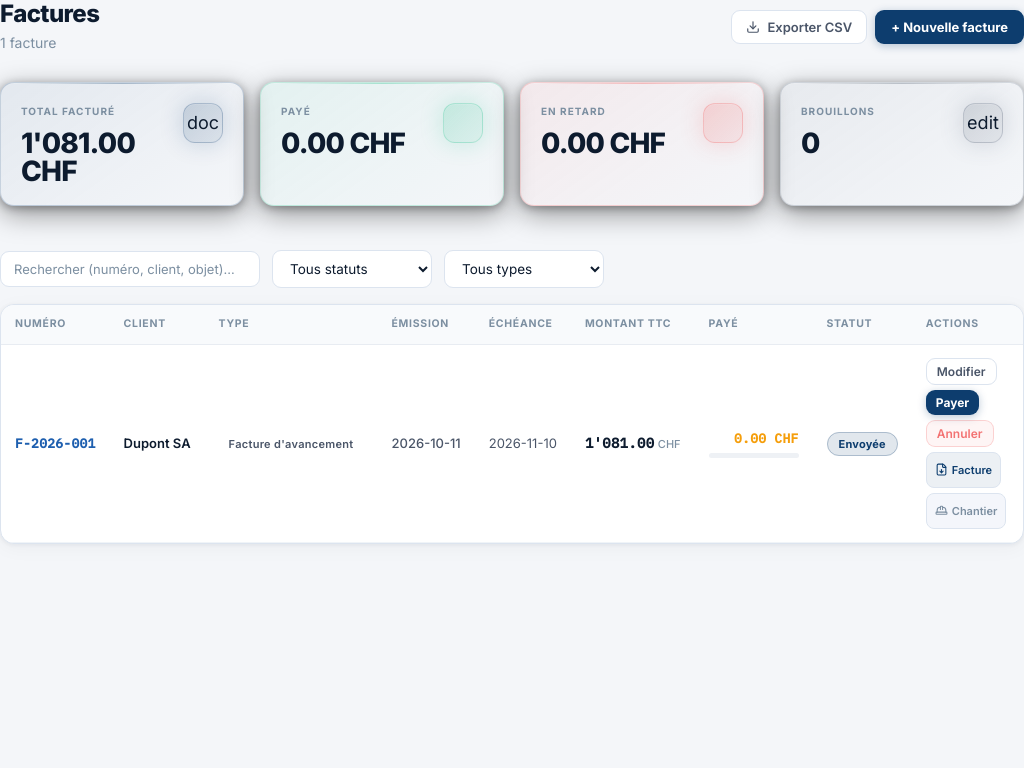
Test case: Factures — paiements › cliquer "Payer" ouvre la modal de paiement
This screenshot has width=1024, height=768.
Step 1. Click the button "Payer" → {"x": 952, "y": 402}, box [926,390,979,415]
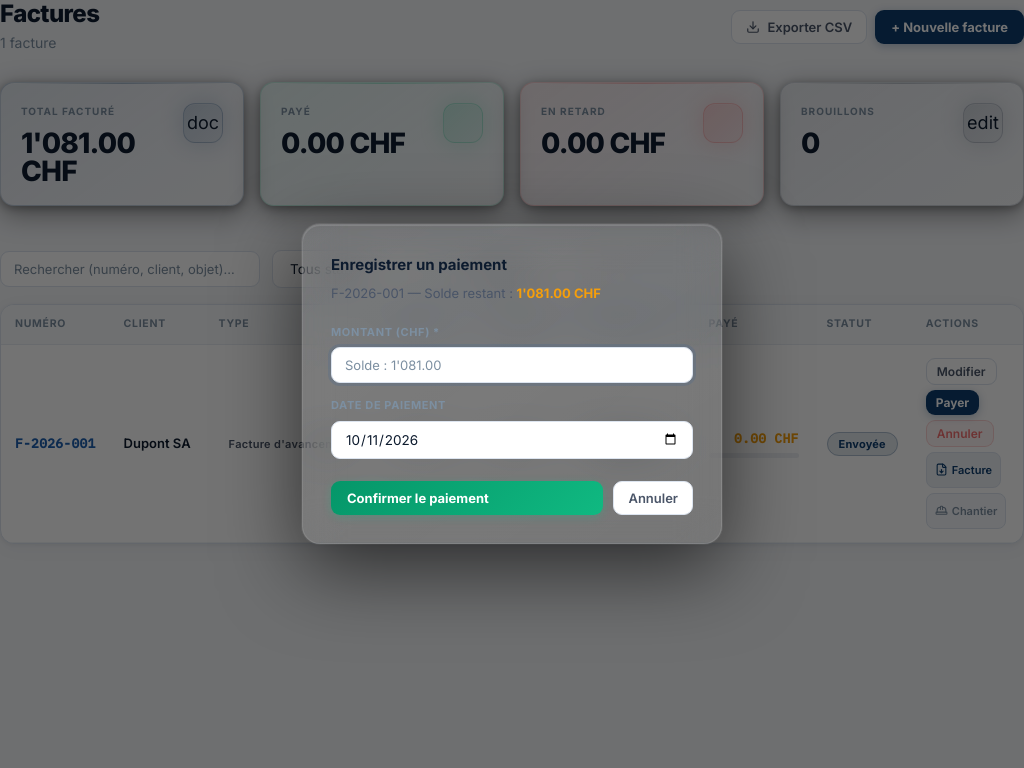
Now the text "Enregistrer un paiement" is shown, box [331,255,507,274]
Now the text "F-2026-001 — Solde restant : 1'081.00 CHF" is shown, box [331,285,601,301]
